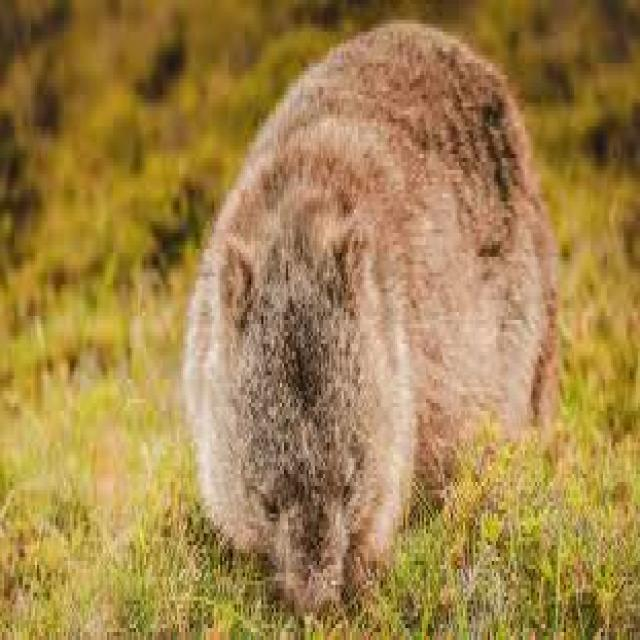wombats: (185, 20, 558, 604)
